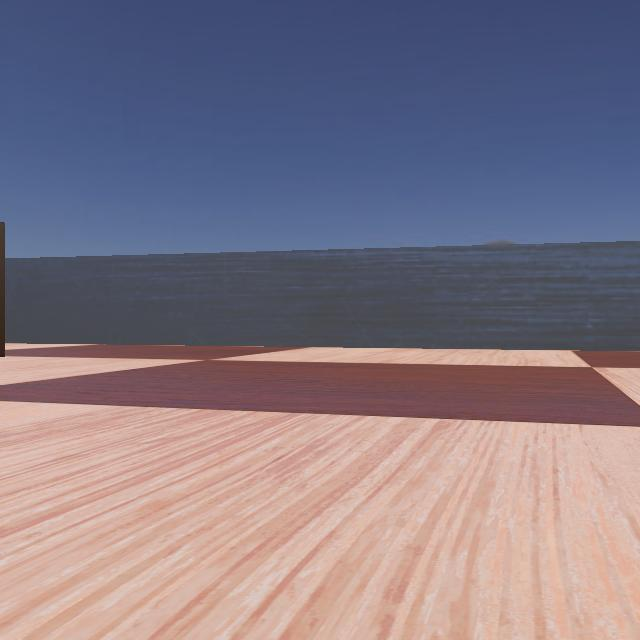cardboard-box: (0, 192, 6, 368)
